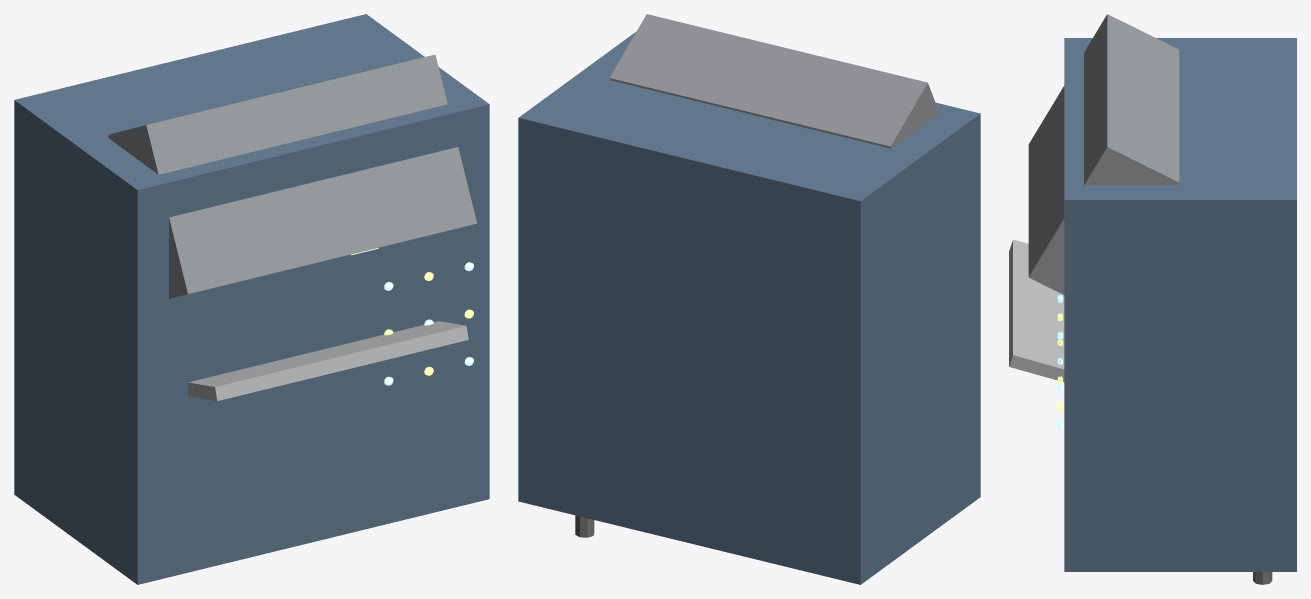
File: test-terminal-lod1.glb
3 renders of one model, left to right at view 1: azimuth 30°, elevation 25°; view 2: azimuth 150°, elevation 25°; view 3: azimuth 270°, elevation 25°, orthographic. The views are drawn at different scales.
Parts seen in each view (by area): view 1: Body, ScreenPanel, Keyboard; view 2: Body, ScreenPanel; view 3: Body, ScreenPanel, Keyboard.
Boxes of the visible parts, x1=… form: Body: x1=14, y1=14, x2=489, y2=584; ScreenPanel: x1=108, y1=54, x2=476, y2=298; Keyboard: x1=188, y1=321, x2=468, y2=401; Body: x1=518, y1=31, x2=980, y2=584; ScreenPanel: x1=609, y1=14, x2=939, y2=148; Body: x1=1064, y1=38, x2=1296, y2=571; ScreenPanel: x1=1028, y1=14, x2=1179, y2=294; Keyboard: x1=1009, y1=239, x2=1064, y2=382.
Bounding box in the file's own units: 1.4 × 1.79 × 1.05.
